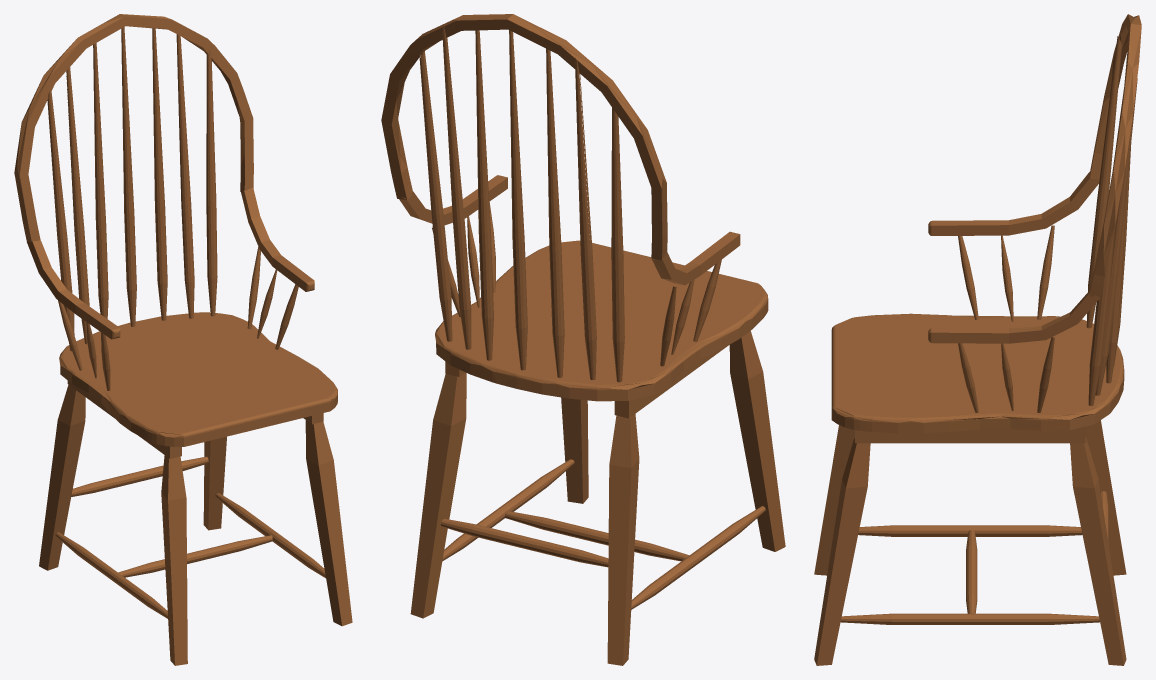
File: chair-by-cmht-oculus-1FAdZ-Wl0Ay.glb
The picture shows the model from 3 angles, left to right: view 1: azimuth 30°, elevation 25°; view 2: azimuth 150°, elevation 25°; view 3: azimuth 270°, elevation 25°; orthographic projection. The views are drawn at different scales.
Parts seen in each view (by area): view 1: Node; view 2: Node; view 3: Node.
Part boxes in pixels (bbox=[...]): Node: bbox=[14, 14, 352, 665]; Node: bbox=[381, 14, 785, 665]; Node: bbox=[814, 14, 1141, 665].
Bounding box in the file's own units: 19.84 × 42.53 × 21.29.
